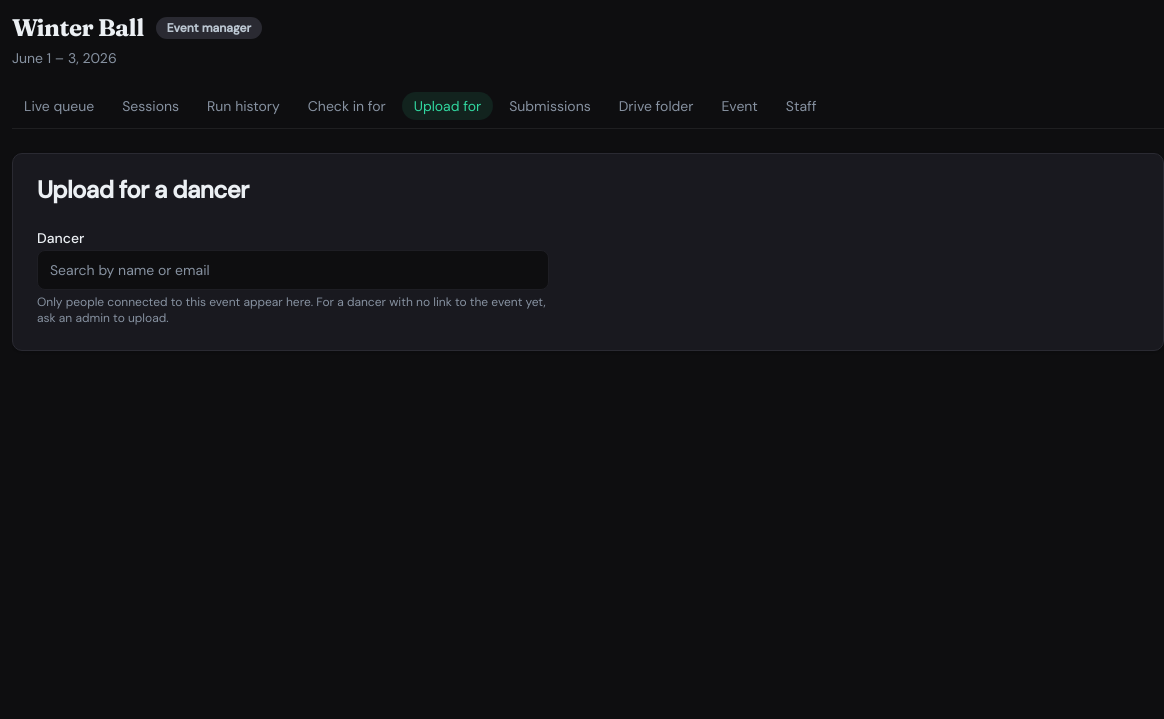
EventManagerPortalPage › picks the dancer before showing the upload form
This screenshot has width=1164, height=719.
In the dropdown labelled "Dancer": (293, 270) [37,250,549,290], type "nia"
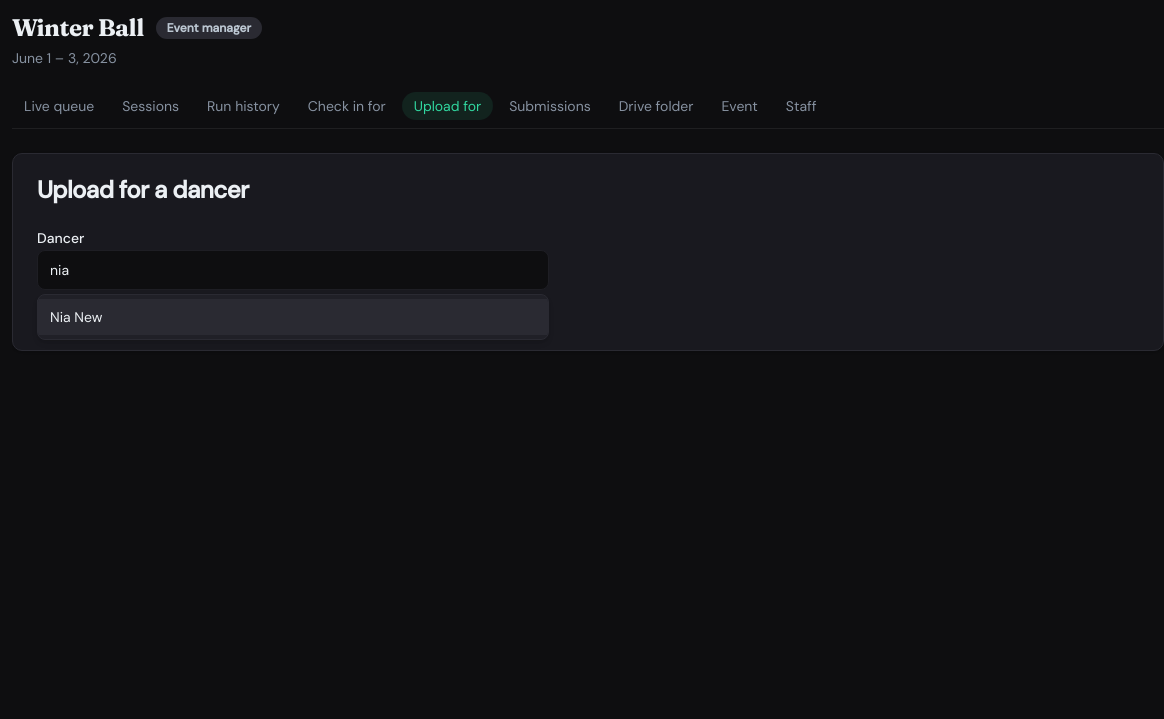
Click the option "Nia New": (76, 317) [38,299,548,335]
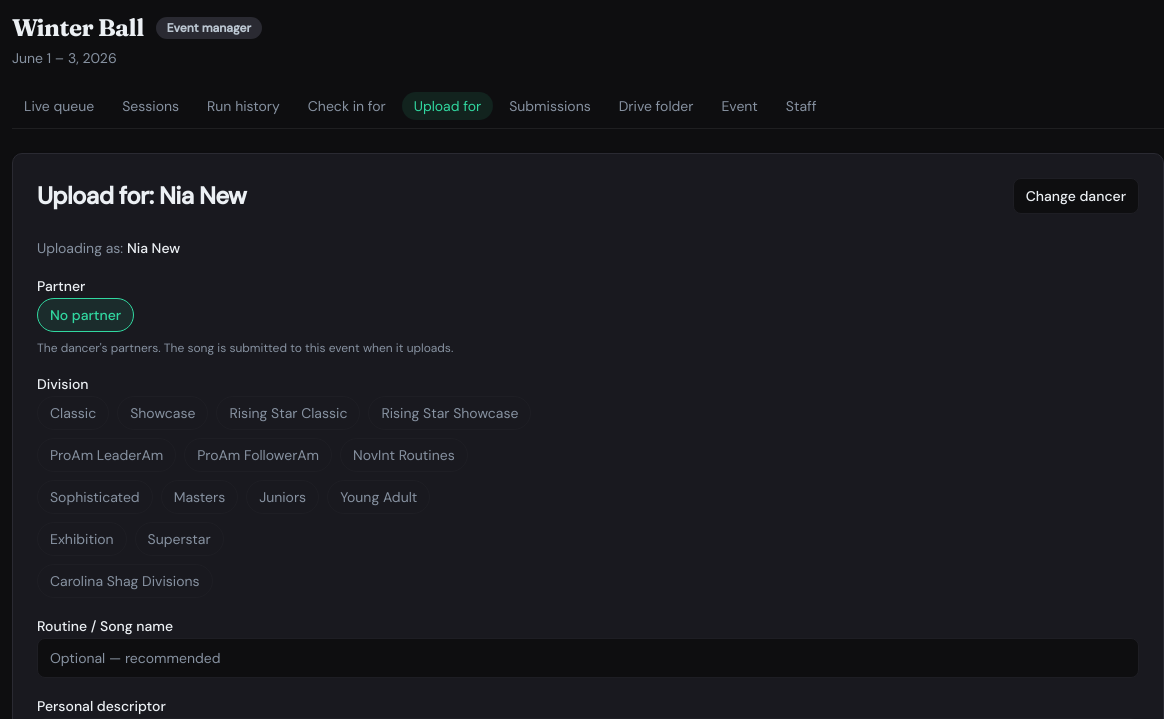
Now the text "Upload for: Nia New" is shown, box [37,184,246,208]
